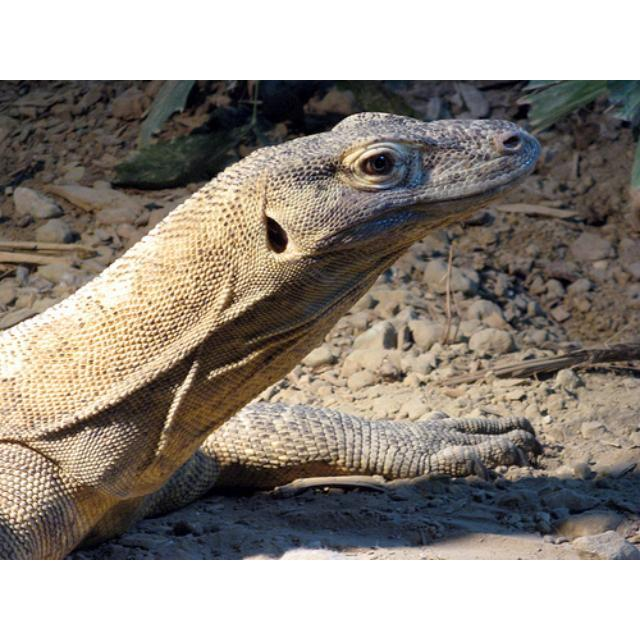KomodoDragon: (2, 109, 543, 558)
